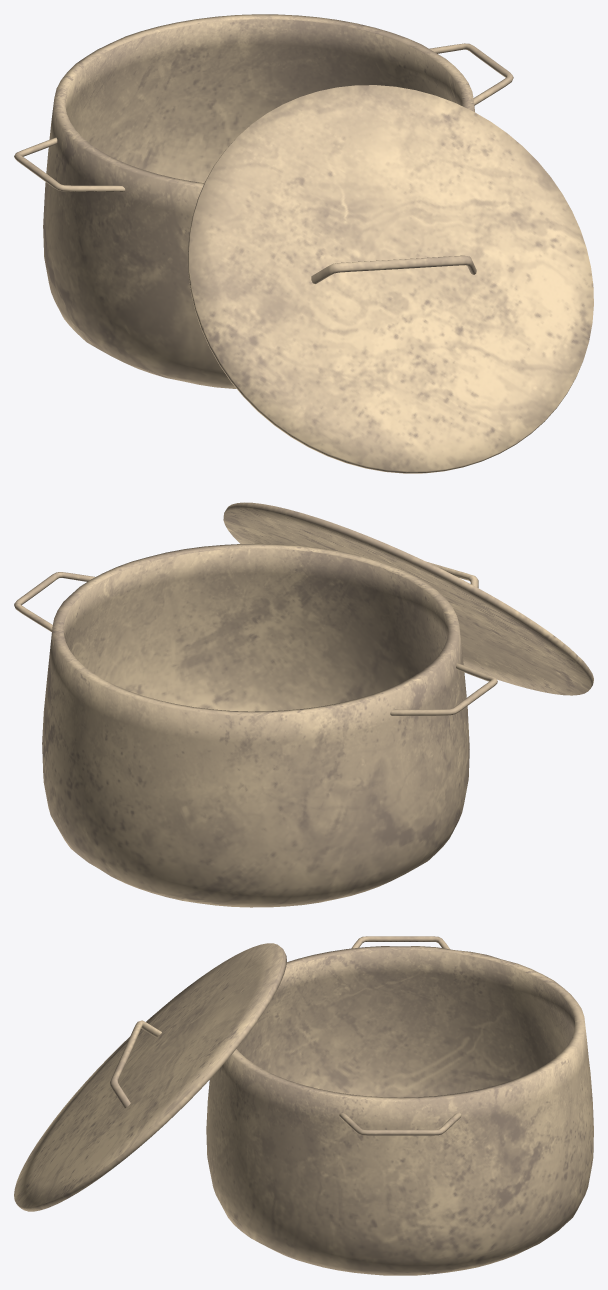
Rendered from copperpot.fbx.
3 renders of one model, top to bottom at view 1: azimuth 30°, elevation 25°; view 2: azimuth 150°, elevation 25°; view 3: azimuth 270°, elevation 25°, orthographic. The views are drawn at different scales.
Parts seen in each view (by area): view 1: lid.001, pot.001, handleside.001, handletop.001; view 2: pot.001, lid.001, handleside.001; view 3: pot.001, lid.001, handleside.001, handletop.001.
Part boxes in pixels (x1=…): lid.001: x1=188, y1=85, x2=593, y2=473; pot.001: x1=43, y1=14, x2=474, y2=388; handleside.001: x1=14, y1=43, x2=513, y2=191; handletop.001: x1=311, y1=255, x2=476, y2=283; pot.001: x1=42, y1=543, x2=469, y2=907; lid.001: x1=223, y1=502, x2=593, y2=695; handleside.001: x1=14, y1=572, x2=497, y2=715; pot.001: x1=206, y1=946, x2=593, y2=1275; lid.001: x1=14, y1=943, x2=286, y2=1211; handleside.001: x1=339, y1=936, x2=461, y2=1135; handletop.001: x1=110, y1=1020, x2=161, y2=1108.
Size of the model in its own units: 190 by 115 by 236.
